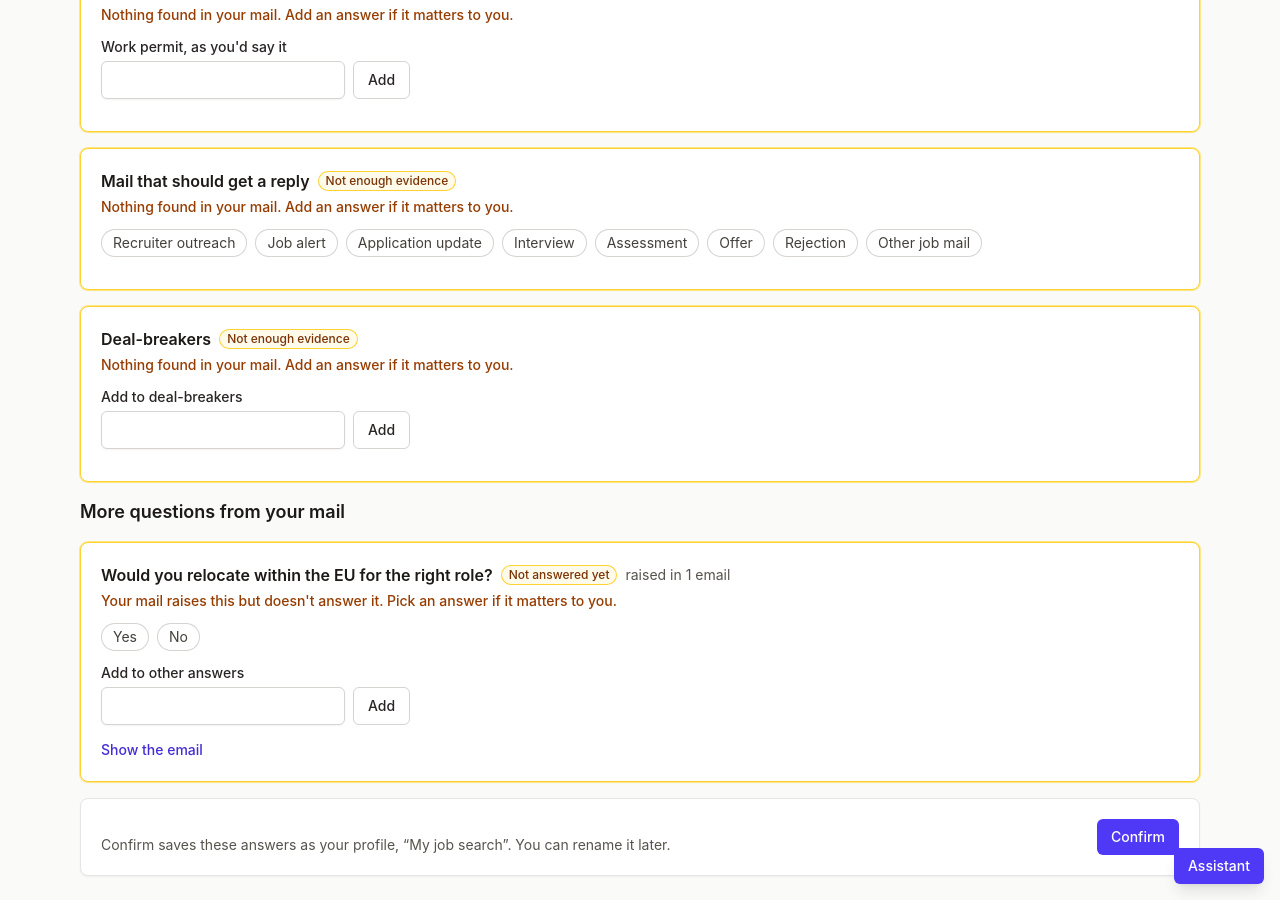
Test: the intake form (F6.1, F6.2) › makes an unanswered extra question stand out until it is answered (F6.3)
(page scrolled)
Expected: the text "Not answered yet" is shown, top-left (501, 565), bottom-right (618, 585)
Expected: the text "raised in 1 email" is shown, top-left (626, 565), bottom-right (730, 585)
Step 1. Click the button "Yes" → (125, 637), box top-left (101, 623), bottom-right (149, 651)
(page scrolled)
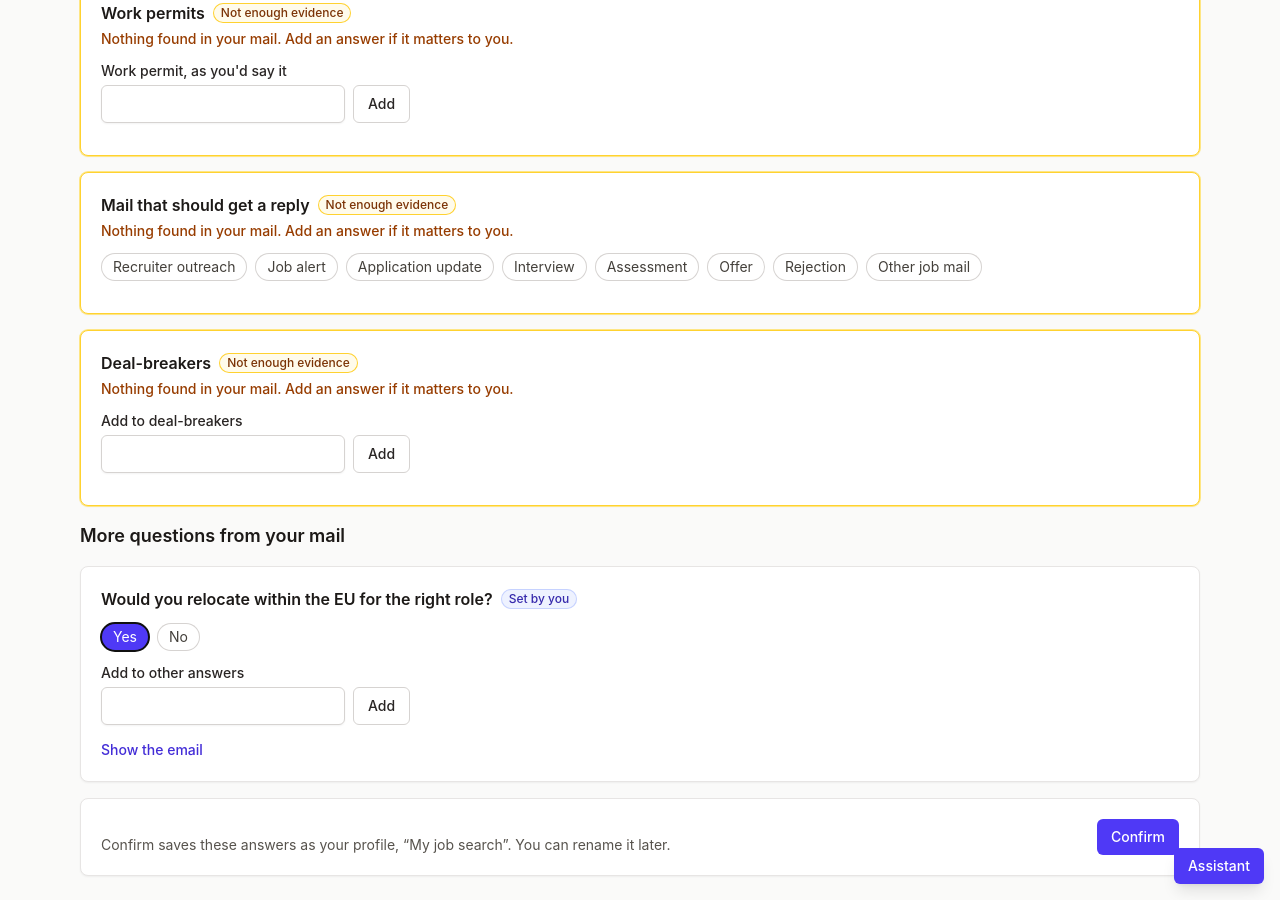
Expected: the text "Set by you" is shown, top-left (501, 589), bottom-right (577, 609)
Expected: the text "Not answered yet" is gone
